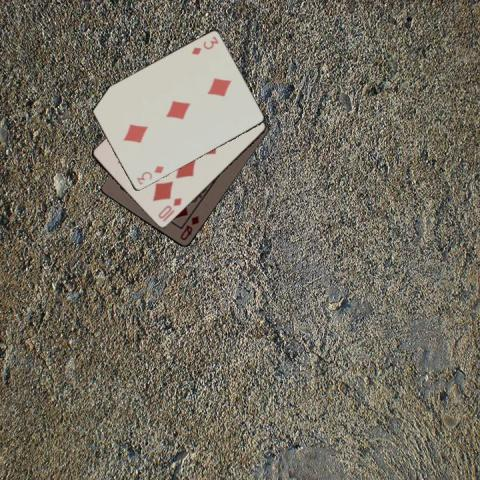10d: (156, 194, 184, 221)
3d: (134, 163, 166, 186), (189, 34, 220, 57)
Qd: (177, 213, 201, 242)
